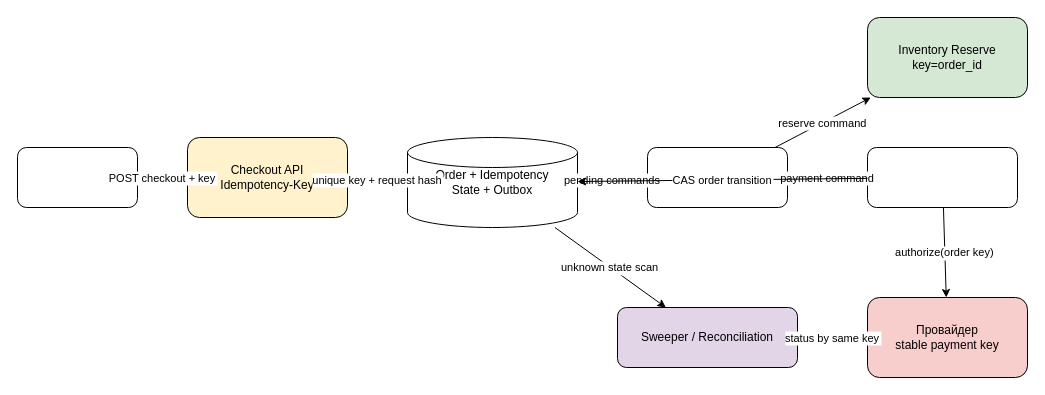
This 1045x395 diagram has some shape labels left out. Each missing label, with the box of its shape:
Outbox Relay: (646, 146, 788, 208)
Payment Worker: (866, 146, 1018, 208)
Покупатель: (16, 146, 138, 208)
